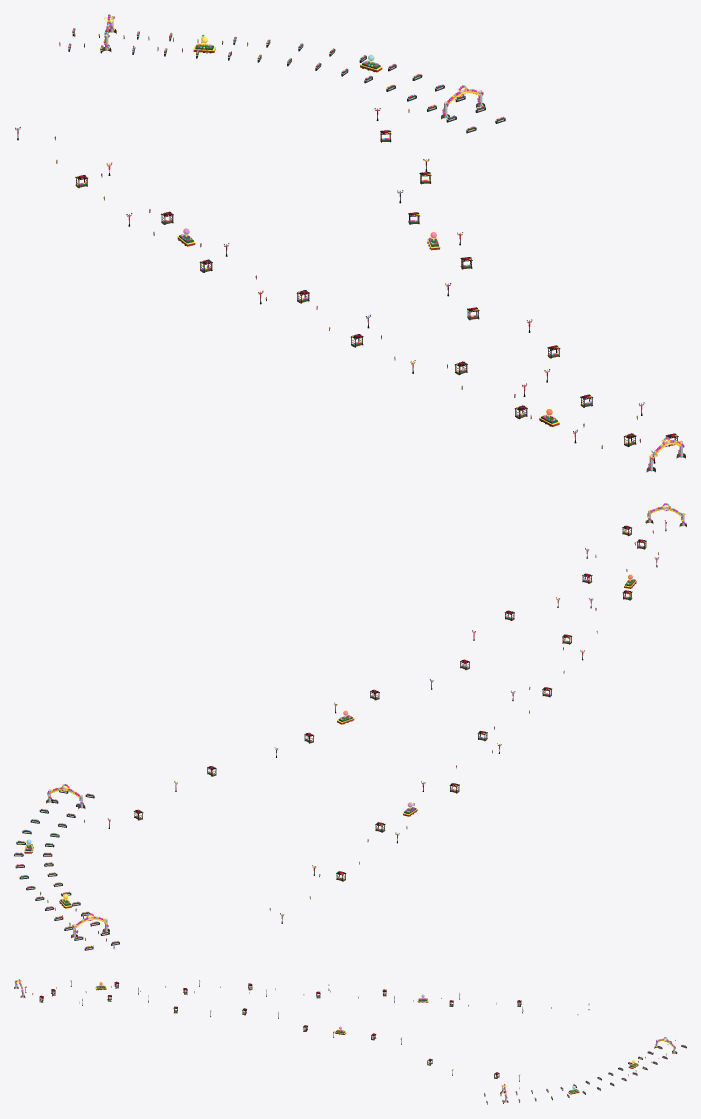
File: ul_w5_01_le_dai_hanh_cau_ong_dao_flower_gates_and_parade.glb
3 renders of one model, top to bottom at view 1: azimuth 30°, elevation 25°; view 2: azimuth 150°, elevation 25°; view 3: azimuth 270°, elevation 25°, orthographic. The views are drawn at different scales.
Parts seen in each view (by area): view 1: node_festival_hedge_foliage, node_pergola_cedar_wood, node_cedar_planter_trough; view 2: node_festival_hedge_foliage, node_pergola_cedar_wood; view 3: node_festival_hedge_foliage, node_pergola_cedar_wood, node_cedar_planter_trough.
Boxes of the visible parts, x1,y1,x2,y2 form: node_festival_hedge_foliage: (68, 18, 685, 469); node_pergola_cedar_wood: (75, 130, 678, 445); node_cedar_planter_trough: (68, 29, 685, 472); node_festival_hedge_foliage: (15, 520, 686, 948); node_pergola_cedar_wood: (134, 525, 646, 880); node_festival_hedge_foliage: (14, 981, 685, 1102); node_pergola_cedar_wood: (39, 982, 521, 1078); node_cedar_planter_trough: (14, 986, 685, 1102).
Size of the model in its own units: 166 by 39.36 by 475.
